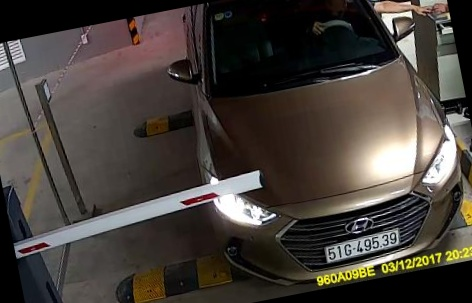plate: (314, 229, 405, 262)
